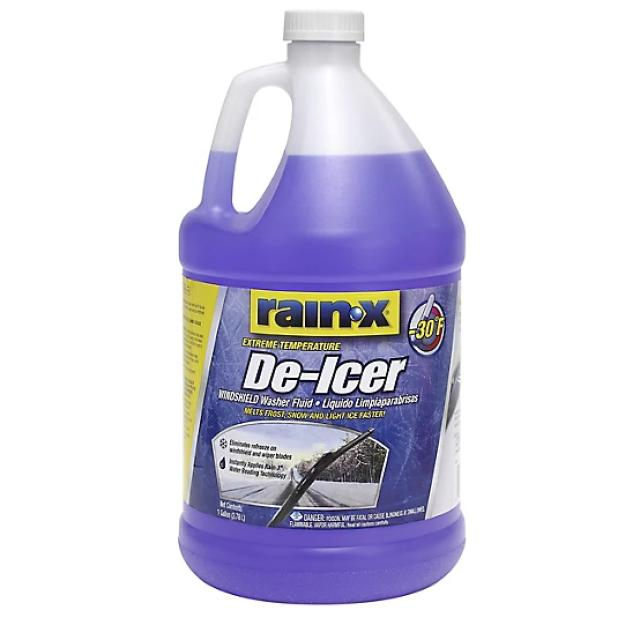winwinshield_washer: (169, 5, 477, 610)
